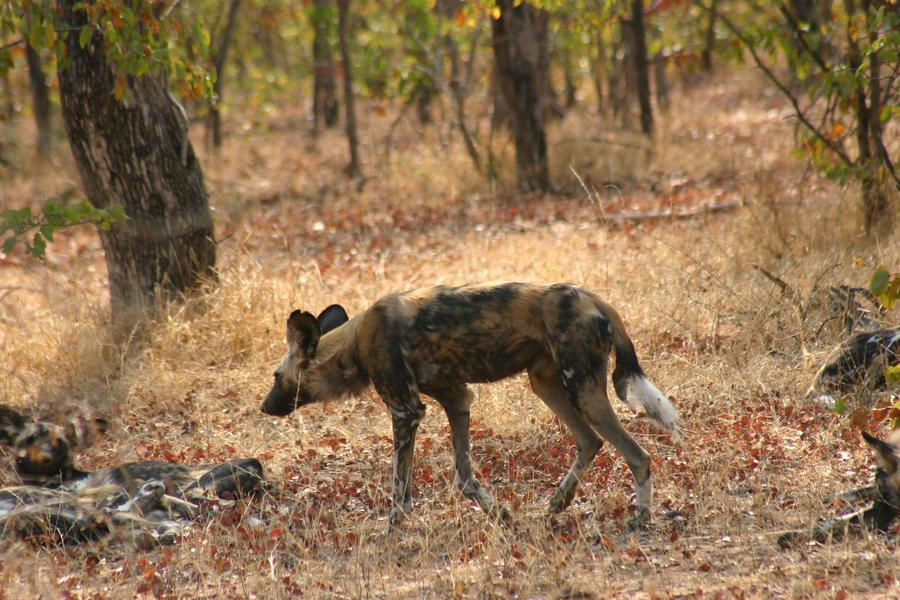wilddog: (280, 284, 619, 413), (9, 408, 236, 527), (821, 312, 900, 387), (853, 428, 894, 528)
